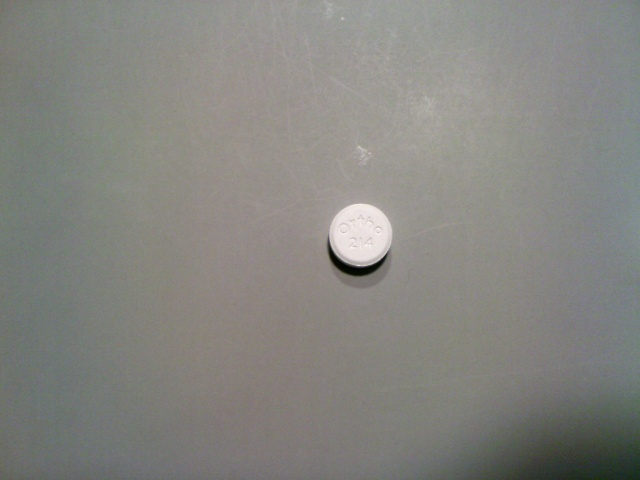1: (358, 235, 362, 250)
2: (347, 236, 358, 250)
4: (363, 236, 374, 250)
O: (336, 222, 350, 235), (375, 225, 383, 236)
Y: (348, 218, 357, 231)
h: (365, 215, 375, 233)
t: (355, 214, 364, 229)
